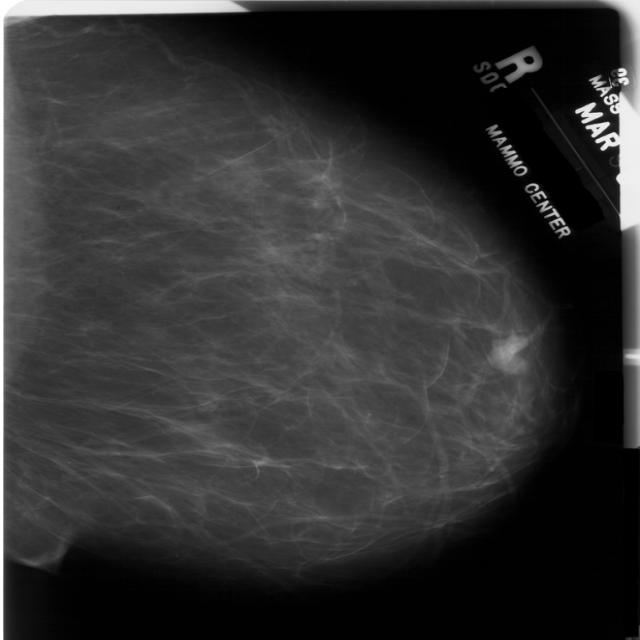tumour: (486, 332, 528, 374)
